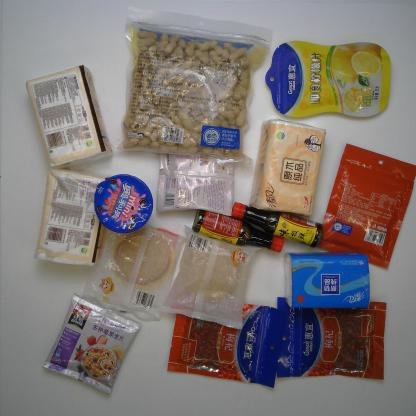Dessert: (160, 225, 262, 330), (81, 223, 186, 322), (94, 173, 154, 234)
Dried Food: (106, 5, 274, 175)
Dried Fruit: (317, 143, 416, 269), (166, 303, 286, 389), (264, 40, 392, 118), (276, 297, 387, 380)
Instant Drink: (41, 293, 142, 396), (155, 152, 236, 217)
Seasoner: (231, 201, 324, 248), (192, 209, 284, 253)
Tissue: (25, 64, 113, 168), (33, 168, 110, 268), (249, 118, 326, 218), (283, 251, 371, 310)
